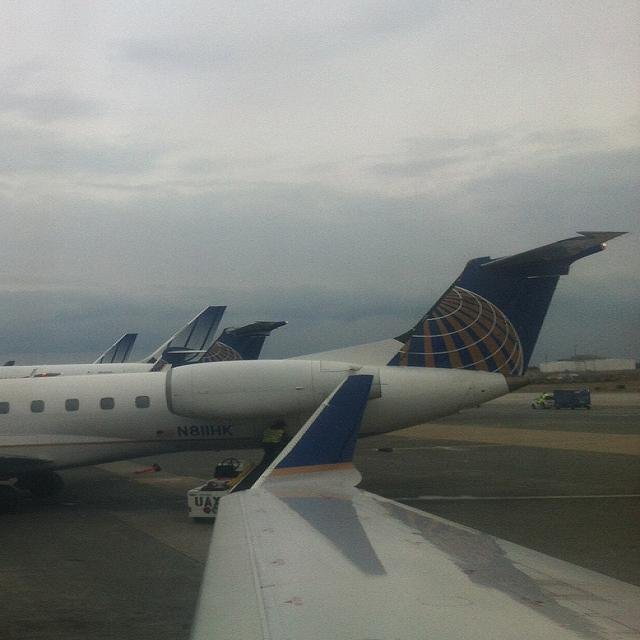Vehicle: (186, 458, 246, 524), (532, 389, 592, 410)
